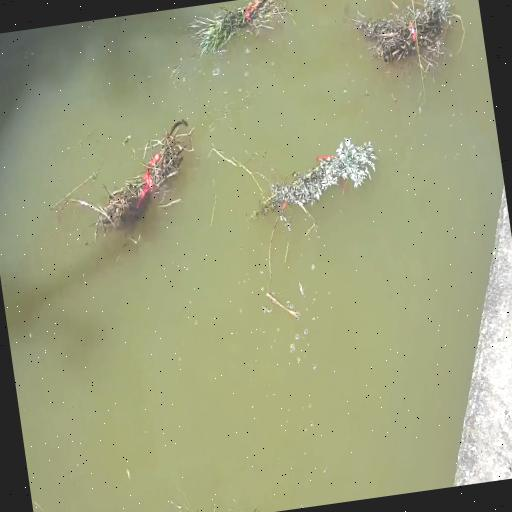twig: (228, 127, 374, 238), (73, 130, 196, 236), (356, 0, 451, 63), (191, 0, 278, 47)
